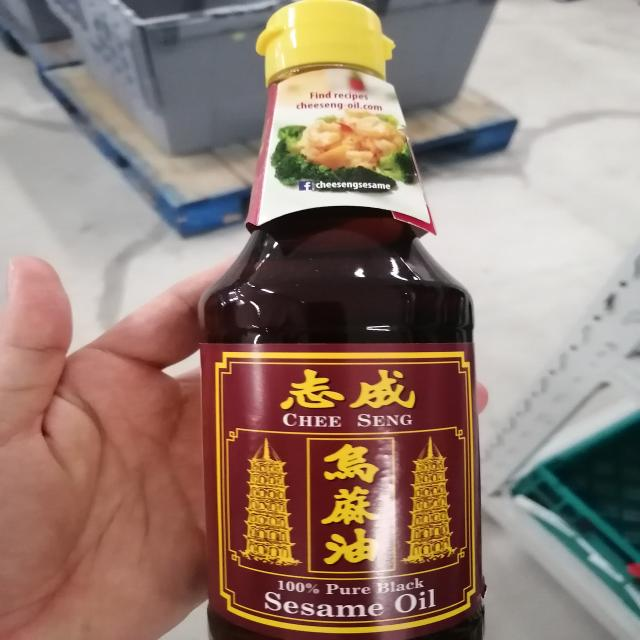object_name: (214, 5, 488, 640)
